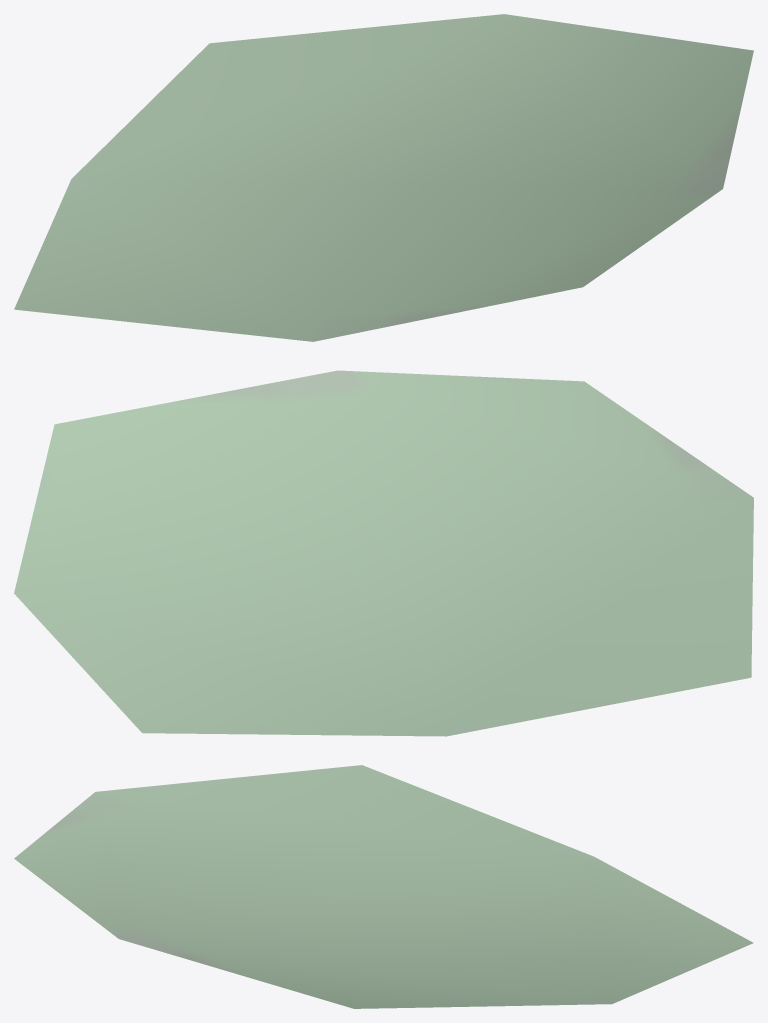
File: TROLLHOLE02_HOLECAP167.fbx
3 renders of one model, top to bottom at view 1: azimuth 30°, elevation 25°; view 2: azimuth 150°, elevation 25°; view 3: azimuth 270°, elevation 25°, orthographic. The views are drawn at different scales.
Parts seen in each view (by area): view 1: TROLLHOLE02_HOLECAP167; view 2: TROLLHOLE02_HOLECAP167; view 3: TROLLHOLE02_HOLECAP167.
Part boxes in pixels (x1,y1,x2,y2): TROLLHOLE02_HOLECAP167: [14, 14, 753, 341]; TROLLHOLE02_HOLECAP167: [14, 370, 753, 736]; TROLLHOLE02_HOLECAP167: [14, 765, 753, 1008].
Bounding box in the file's own units: 42173 × 5179 × 41580.
1 material, 1 textured.
